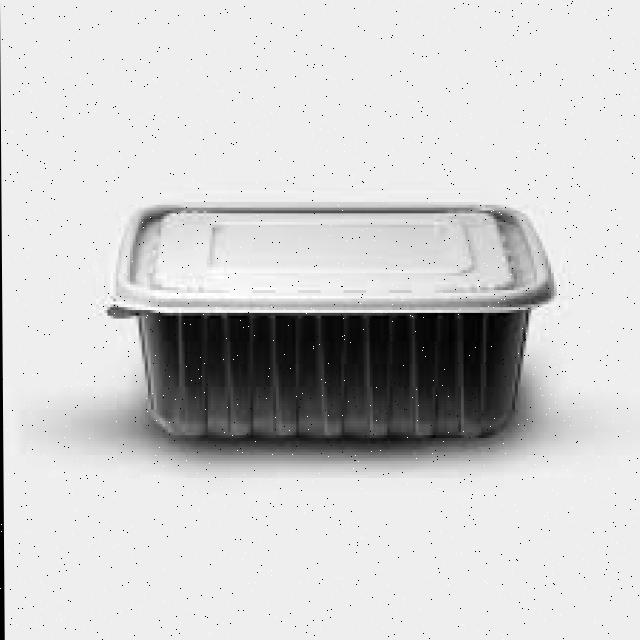disposable: (99, 179, 577, 467)
